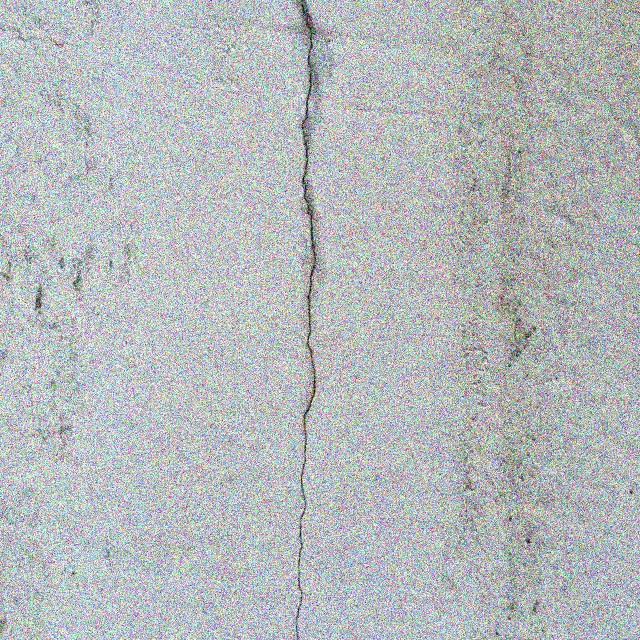SurfaceCrack: (244, 1, 372, 640)
